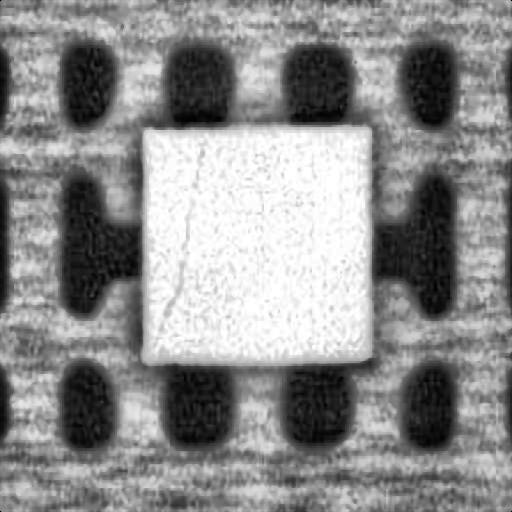DIE_CRACK: (149, 151, 200, 342)
